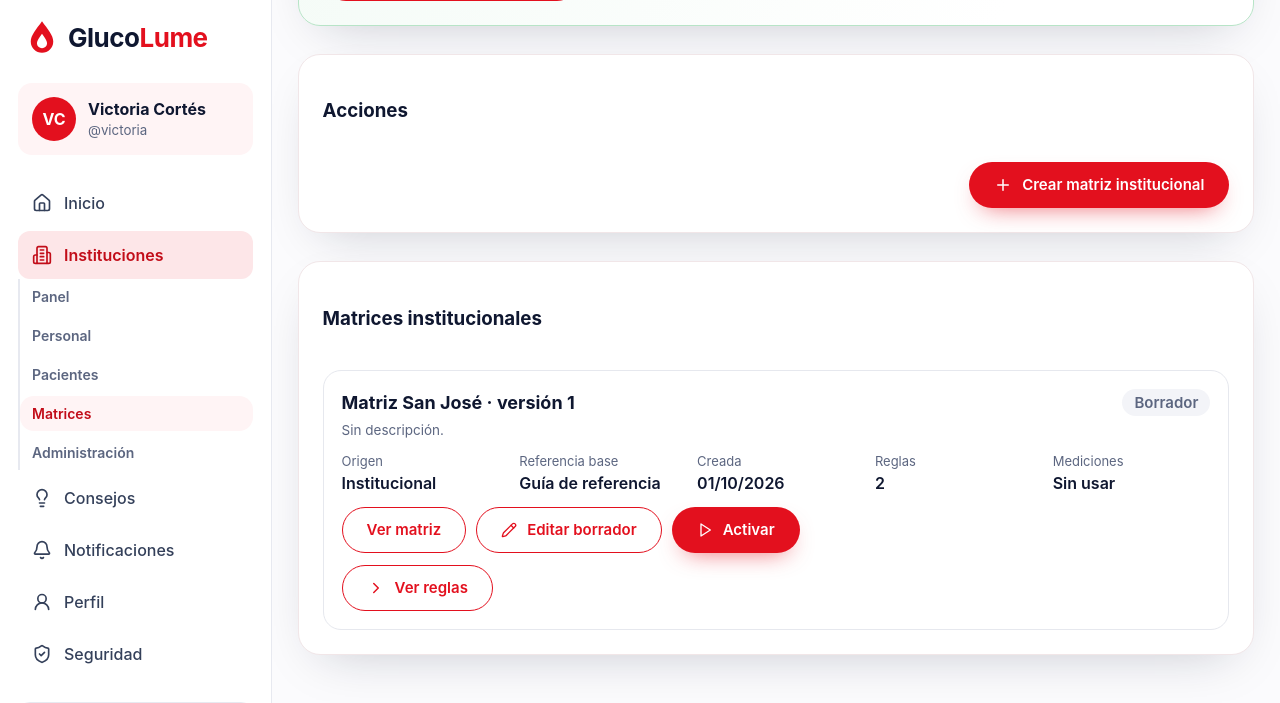
Matrices institucionales › activa una versión con confirmación y la anterior queda en el historial
(page scrolled)
Click the button with aria-label "Activar Matriz San José versión 1".
click(736, 530)  # box [672,507,800,553]
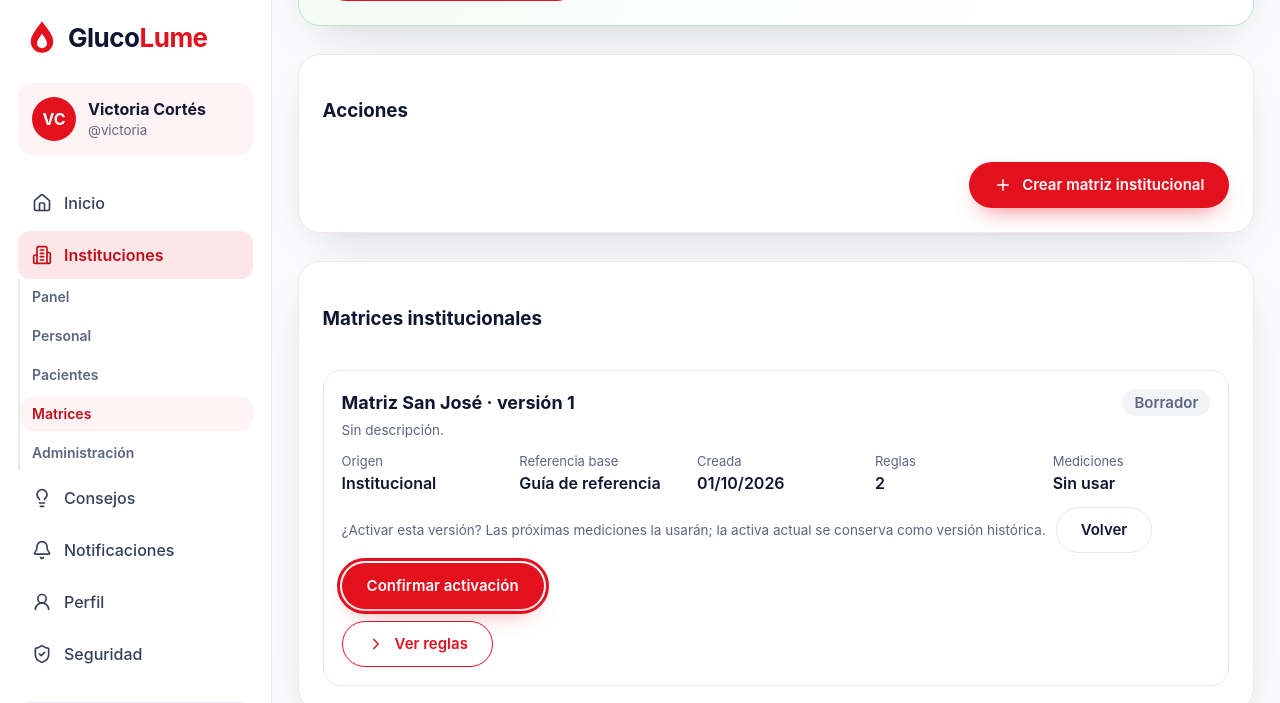
Now the text "la activa actual se conserva como versión histórica" is shown, box [342,522,1046,538]
Click the button "Confirmar activación".
click(443, 586)  # box [342,563,544,609]
(page scrolled)
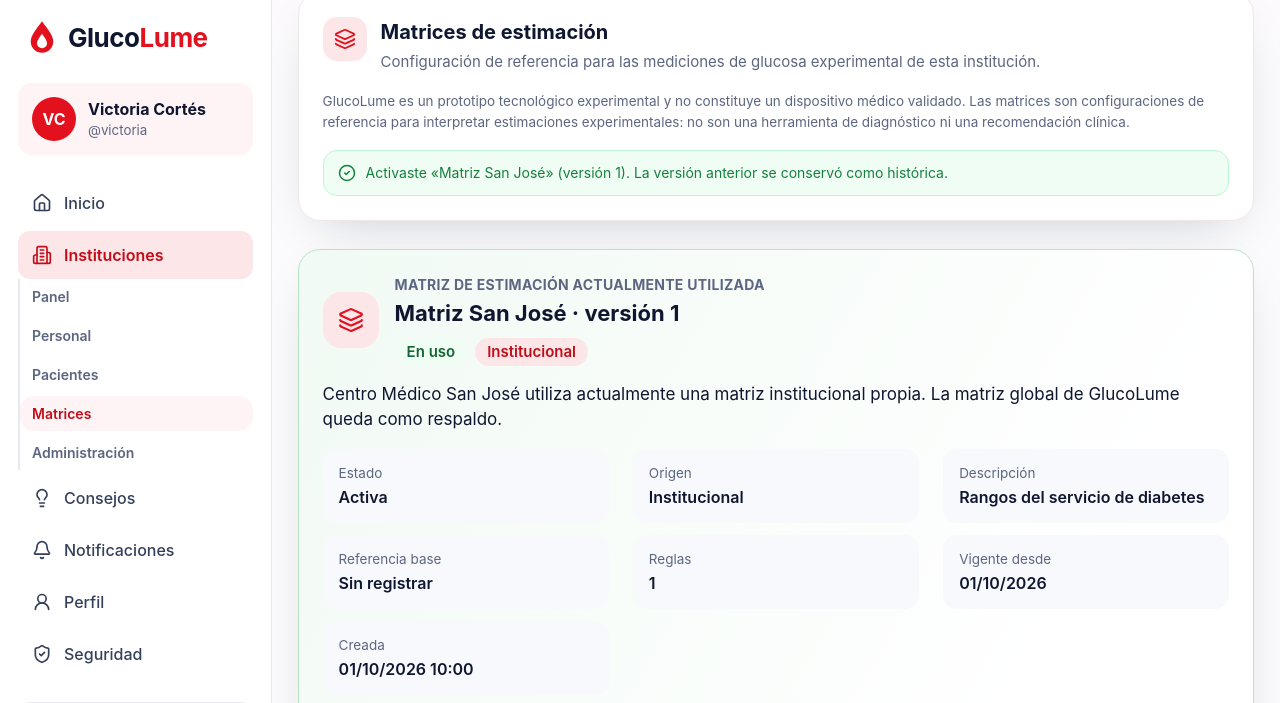
Expected: the text "En uso" is shown, [395,338,467,366]
Now the text "Activaste «Matriz San José» (versión 1)" is shown, box [366,164,948,181]
Now the heading "Matriz San José · versión 1" is shown, box [395,300,679,326]
